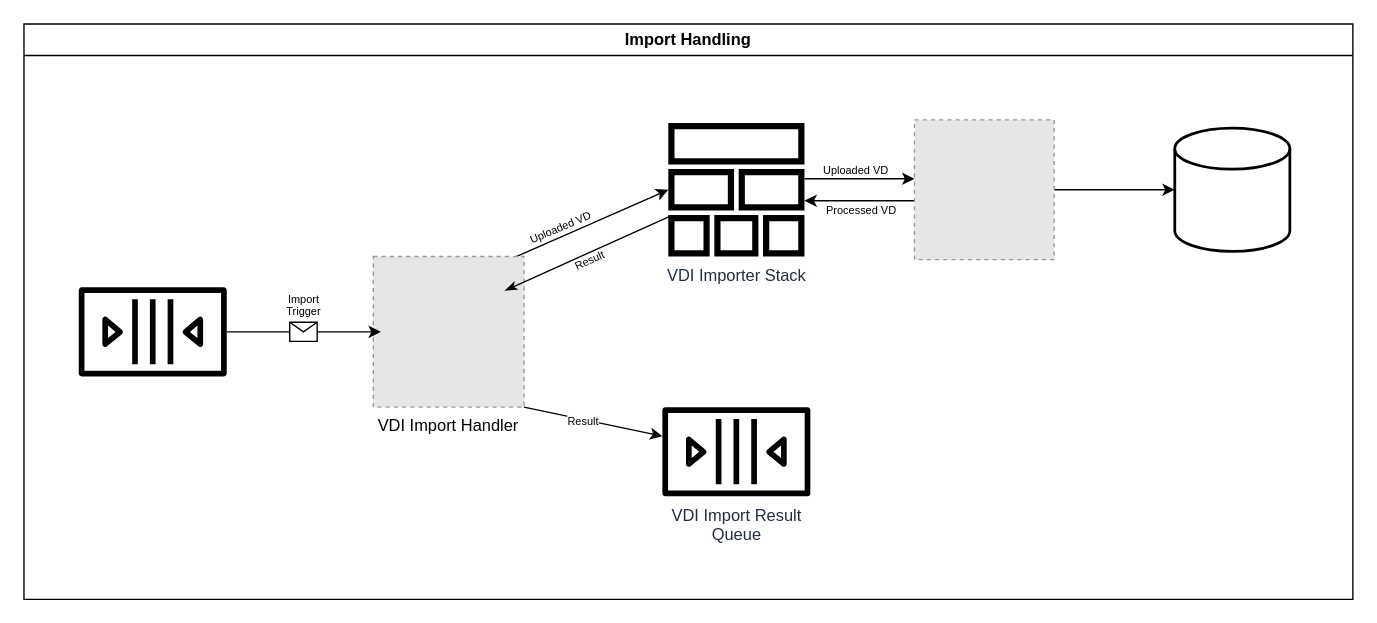
Some shapes in this 1377 by 623 pixel diagram are drawn without their labels. Grey dashed boxes stand in for pictures. The centre of each missing label's shape, as x and y in pixels:
Application DB: point (1232, 189)
VDI Import Trigger Queue: point (152, 331)
